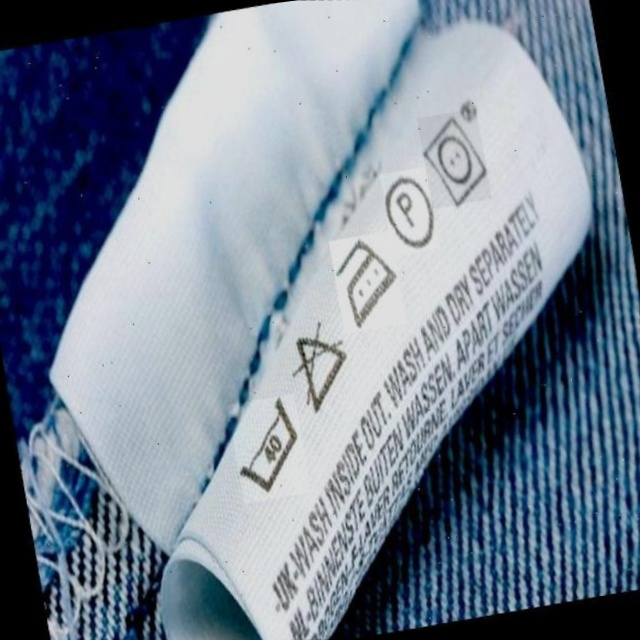40C: (228, 391, 314, 500)
DN_bleach: (286, 320, 360, 418)
dry_clean_any_solvent_except_trichloroethylene: (377, 171, 442, 253)
iron_high: (326, 230, 411, 329)
tumble_dry_medium: (413, 109, 499, 212)
